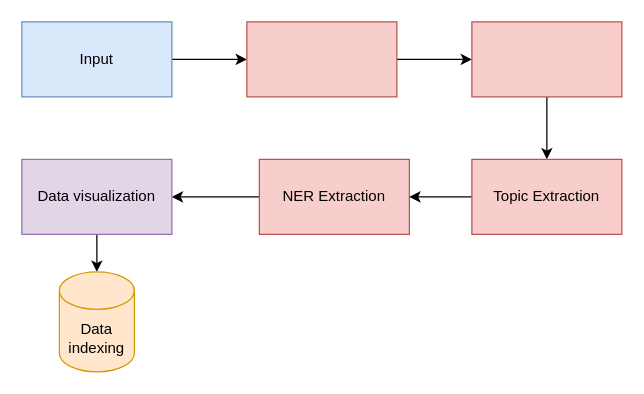
Some shapes in this 644 by 394 pixel diagram are drawn without their labels. Here are the shapes that lost their labels. From the top down, the box of each, then its label:
(246, 21, 397, 97): Data processing
(471, 21, 622, 97): KeyWord Extraction
